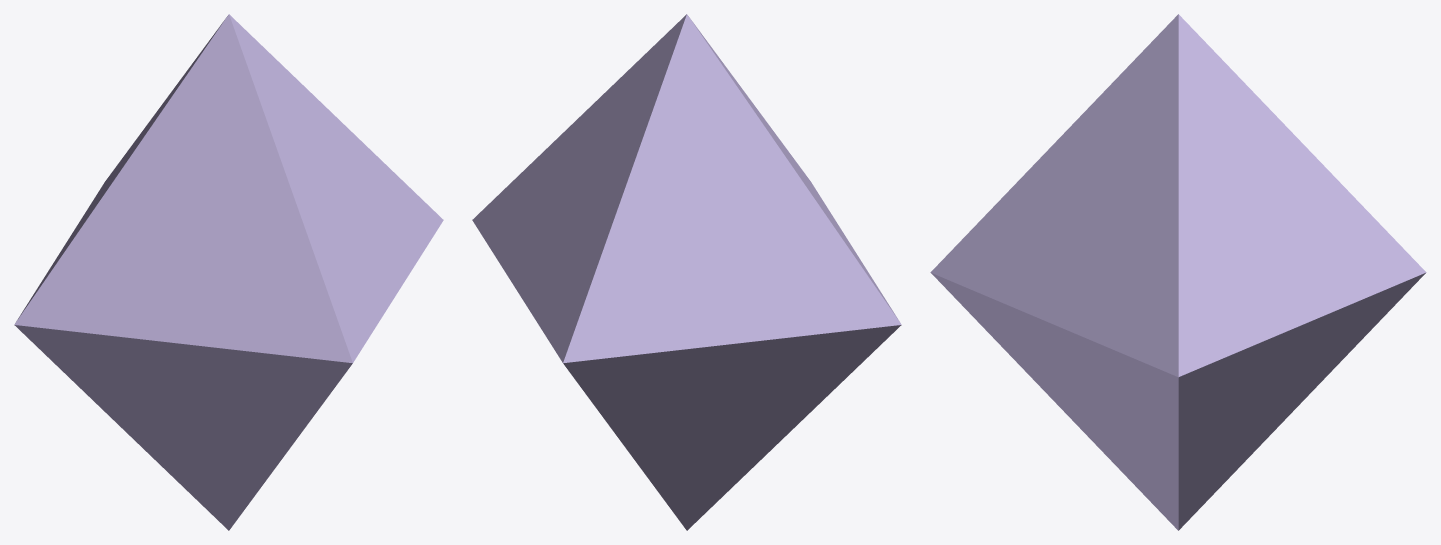
The model's file is fluorite.glb.
The picture shows the model from 3 angles, left to right: view 1: azimuth 30°, elevation 25°; view 2: azimuth 150°, elevation 25°; view 3: azimuth 270°, elevation 25°; orthographic projection.
Parts seen in each view (by area): view 1: fluorite; view 2: fluorite; view 3: fluorite.
Part boxes in pixels (x1,y1,x2,y2): fluorite: (14, 14, 443, 530); fluorite: (472, 14, 901, 530); fluorite: (930, 14, 1426, 530).
Size of the model in its own units: 0.2174 by 0.25 by 0.2174.
